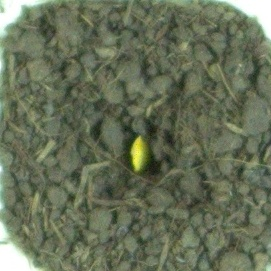chilli seed: (128, 134, 155, 173)
